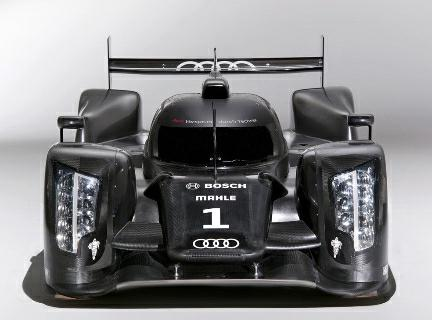奥迪-R18: (36, 28, 404, 313)
